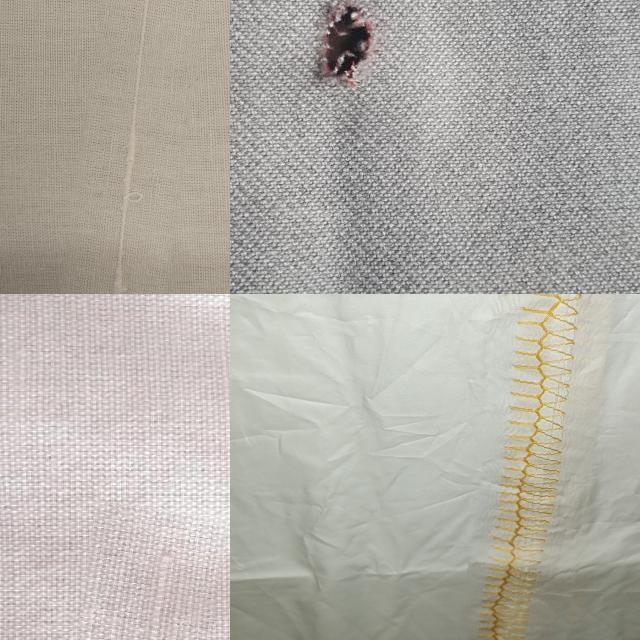Thread_out: (466, 294, 616, 640)
other: (313, 0, 375, 87)
stains: (75, 0, 223, 294), (68, 504, 218, 640)
